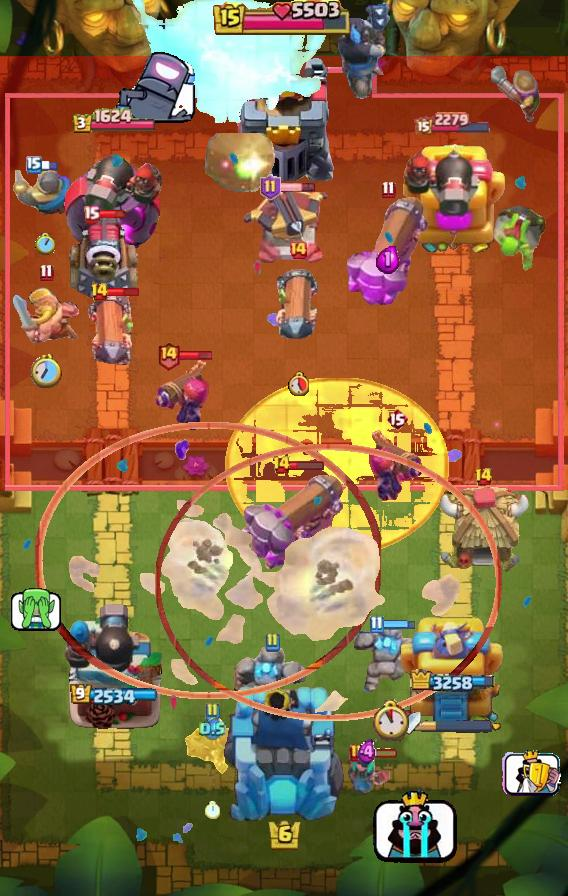bar: (401, 611, 505, 731)
bar-level: (491, 203, 549, 275)
battle-healer: (87, 291, 137, 373), (274, 265, 322, 347)
bomb-tower: (491, 65, 543, 123)
clock: (213, 0, 355, 38)
electro-spirit: (376, 244, 400, 274), (198, 717, 225, 741), (357, 739, 377, 765)
elixir: (370, 698, 411, 741), (31, 354, 61, 388), (288, 371, 309, 396), (35, 233, 55, 255), (204, 801, 219, 819)
emote: (106, 286, 142, 298), (363, 747, 399, 759), (280, 182, 317, 193), (287, 460, 324, 471), (381, 619, 417, 630), (178, 350, 213, 361), (97, 209, 129, 219), (40, 159, 59, 171)
firecracker: (12, 170, 78, 216)
furnace: (237, 470, 347, 572), (343, 195, 433, 309)
goblin-ball: (182, 718, 242, 776)
goblin-giant: (11, 287, 81, 345)
golem: (63, 213, 143, 305)
inferno-dragon: (335, 0, 393, 100)
king-tower: (223, 31, 345, 181), (221, 682, 347, 826)
king-tower-bar: (421, 719, 493, 733)
lava-pup: (243, 185, 331, 267)
mega-knight: (131, 0, 353, 148)
mega-minion: (152, 359, 210, 433), (368, 429, 426, 503)
phoenix-egg: (225, 378, 449, 556)
prince: (436, 485, 530, 575)
royal-ghost: (35, 420, 381, 700), (155, 444, 501, 721)
selected: (71, 109, 157, 136), (411, 669, 498, 695), (70, 685, 158, 708), (414, 111, 492, 135)
skeleton: (372, 784, 458, 864), (110, 52, 195, 126), (501, 750, 561, 797), (8, 588, 63, 632)
text: (156, 340, 181, 371), (259, 174, 280, 200), (386, 407, 408, 431), (288, 240, 308, 260), (272, 455, 292, 475), (90, 282, 109, 302), (475, 467, 494, 487), (83, 204, 101, 223), (264, 632, 280, 652), (204, 702, 220, 722), (349, 743, 365, 763), (26, 156, 42, 174), (381, 181, 396, 200), (39, 262, 53, 281), (369, 615, 383, 634)
tower-bar: (64, 601, 164, 731), (399, 138, 507, 256), (64, 138, 164, 256)
valkyrie-evolution: (234, 647, 310, 725), (354, 628, 426, 698)
witch: (344, 749, 390, 795)
x-bow: (200, 133, 286, 195)
